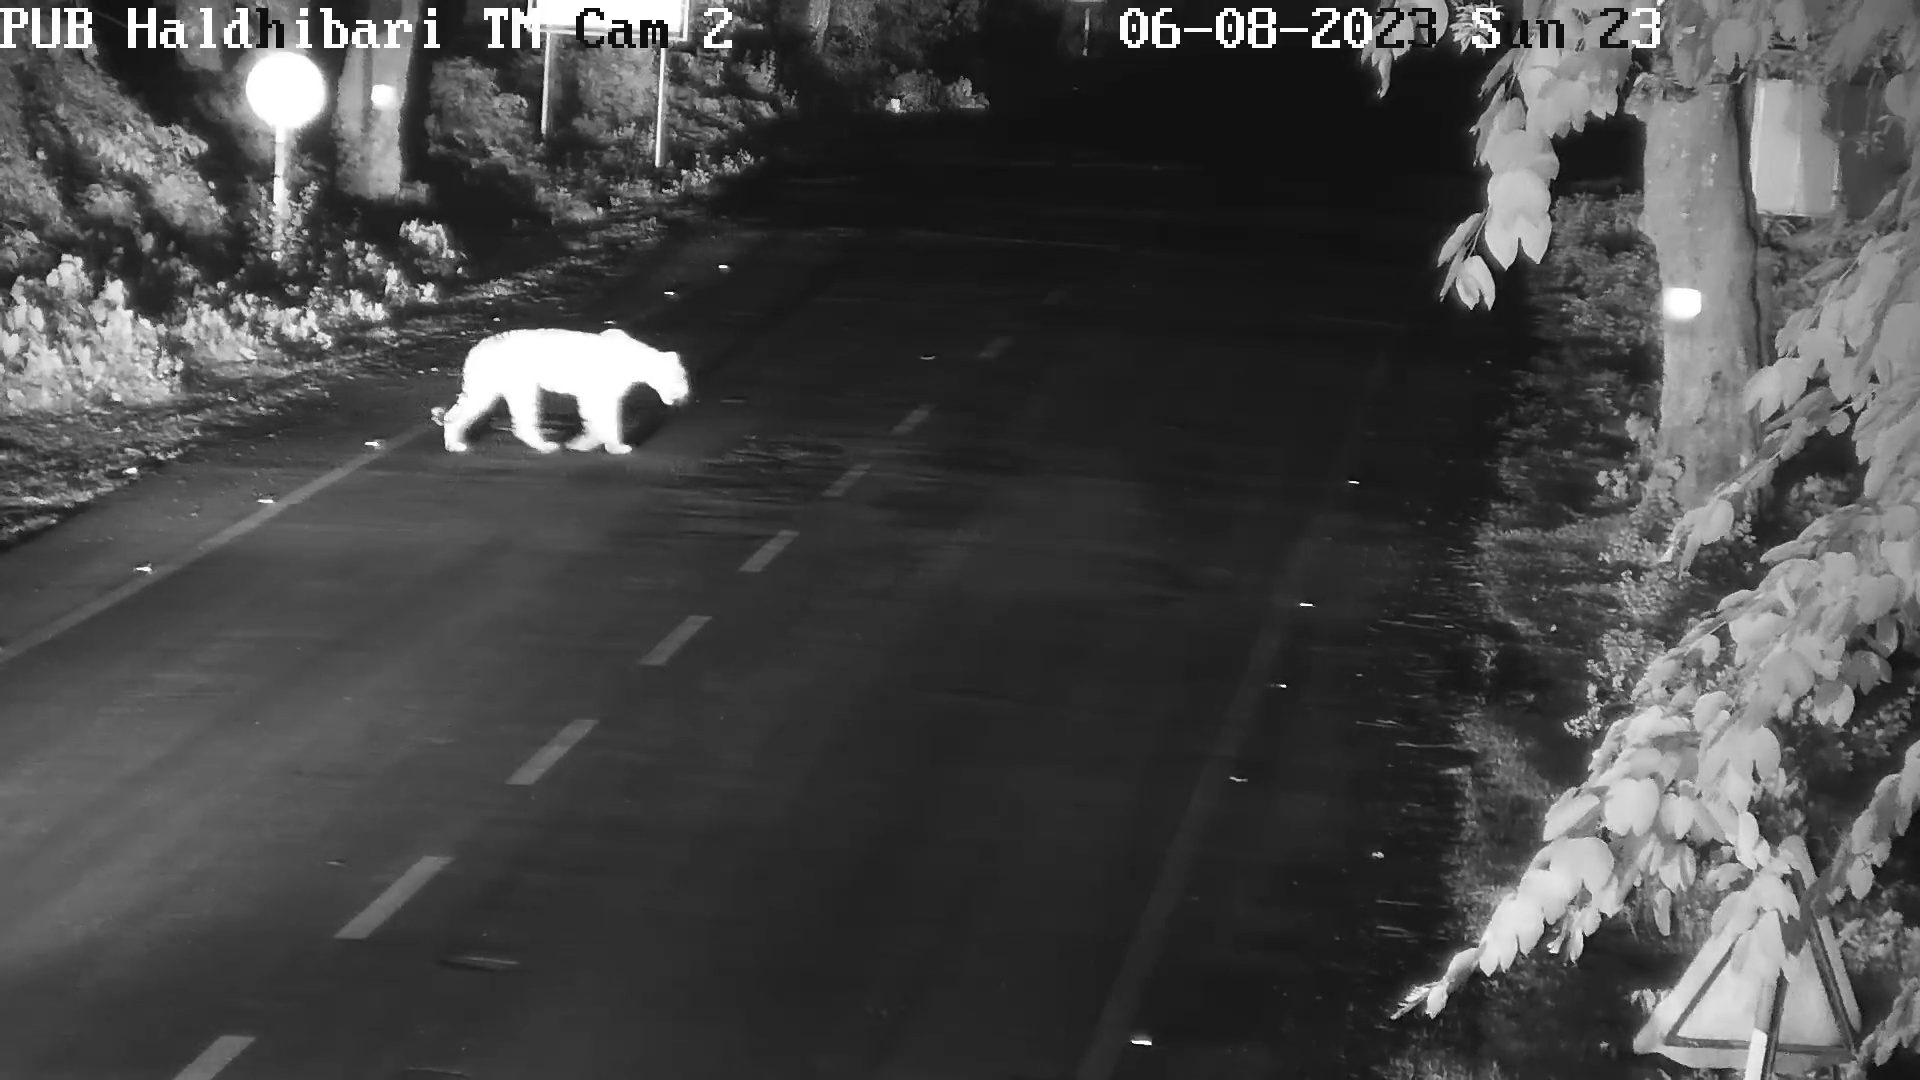tigers: (446, 324, 696, 465)
